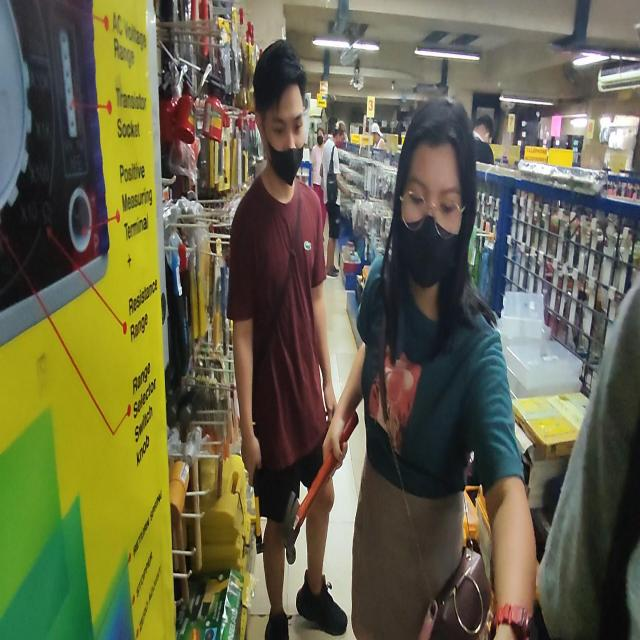hammer: (283, 410, 359, 565)
